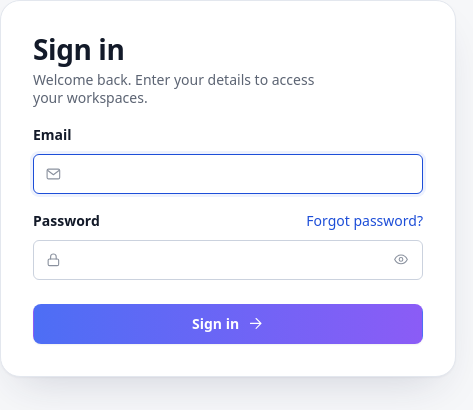
Test case: LoginForm › toggles password visibility client-side without affecting the submitted value
Type "hunter2hunter2" into the password field labelled "Password" at (228, 260), box [33, 240, 423, 280]
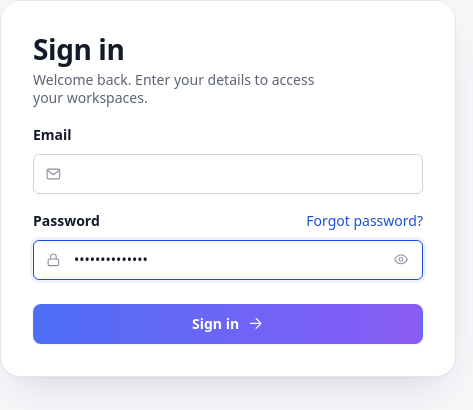
Click the button named "Show password" at (401, 260), box [387, 246, 415, 274]
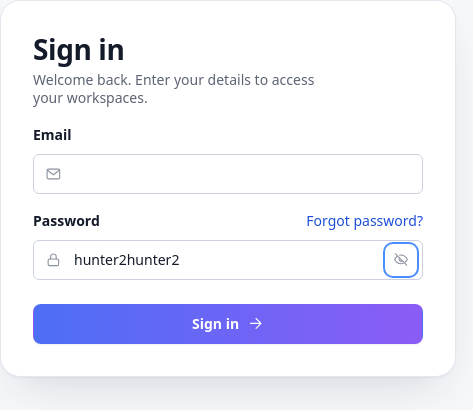
Expected: the field labelled "Password" shows its text, [33, 240, 423, 280]
Expected: the button named "Hide password" is shown
Click the button named "Hide password" at (401, 260), box [387, 246, 415, 274]
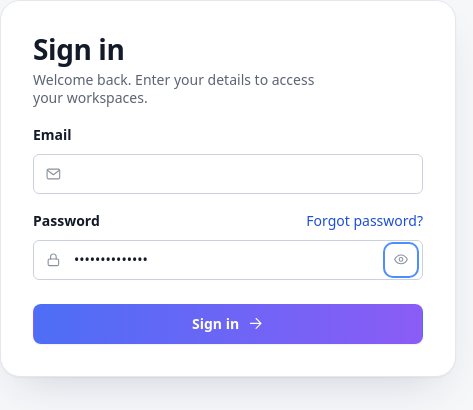
Expected: the password field labelled "Password" hides its text, [33, 240, 423, 280]
